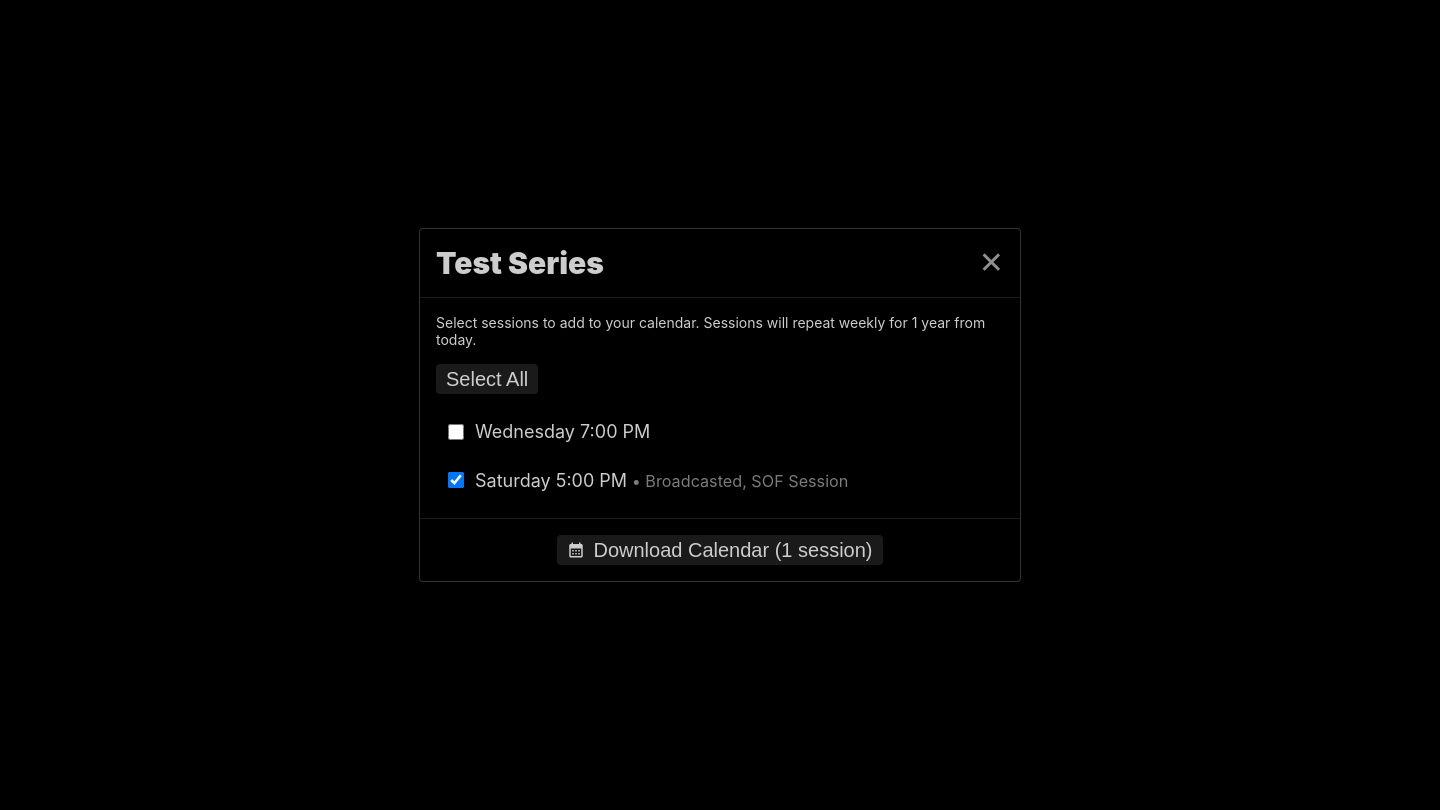
Test: CalendarModal interactions › toggling a checkbox changes the selected count
Click the checkbox labelled "Wednesday 7:00 PM". click: click(456, 432)
box: [448,424,464,440]
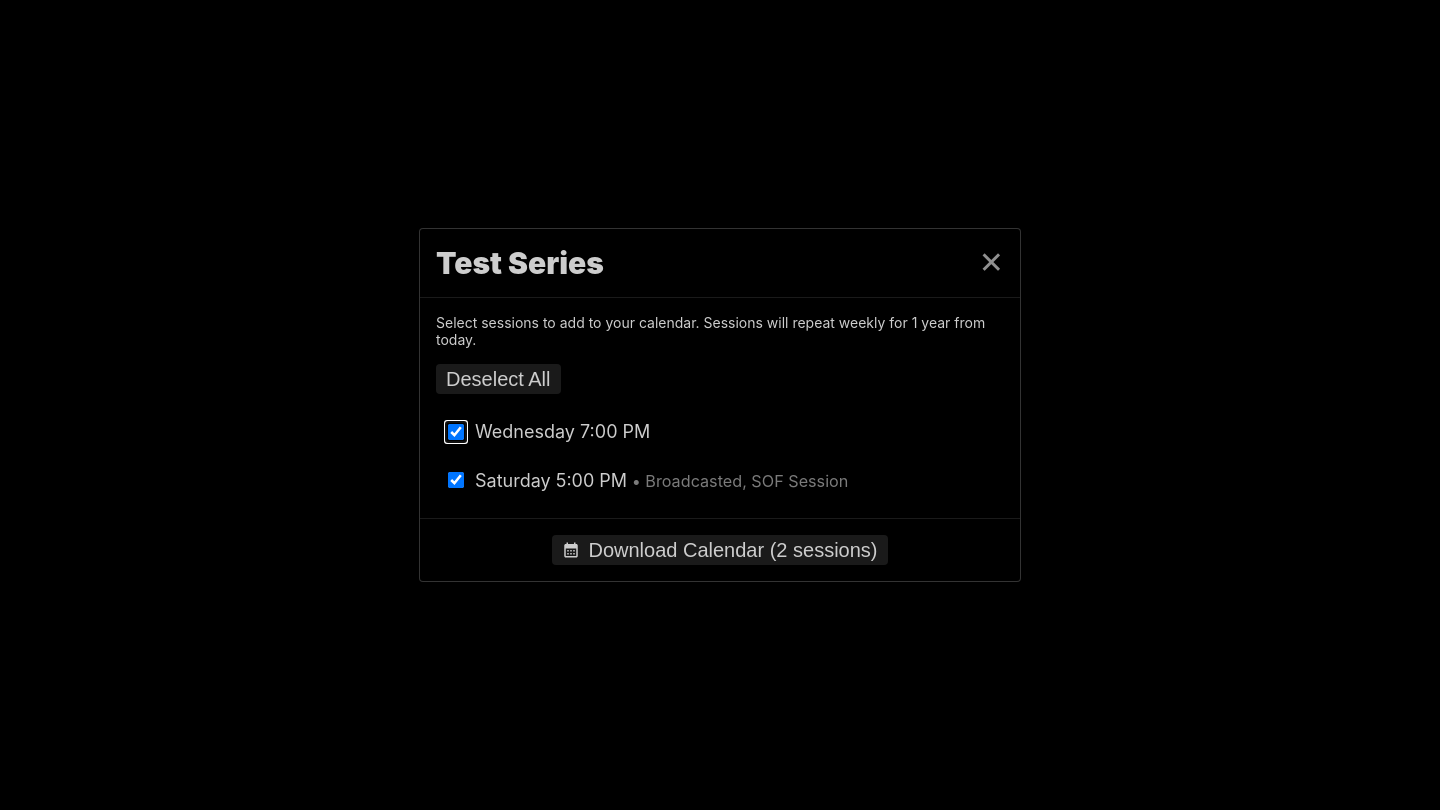
Expected: the button "Download Calendar (2 sessions)" is shown, [552,535,888,565]
